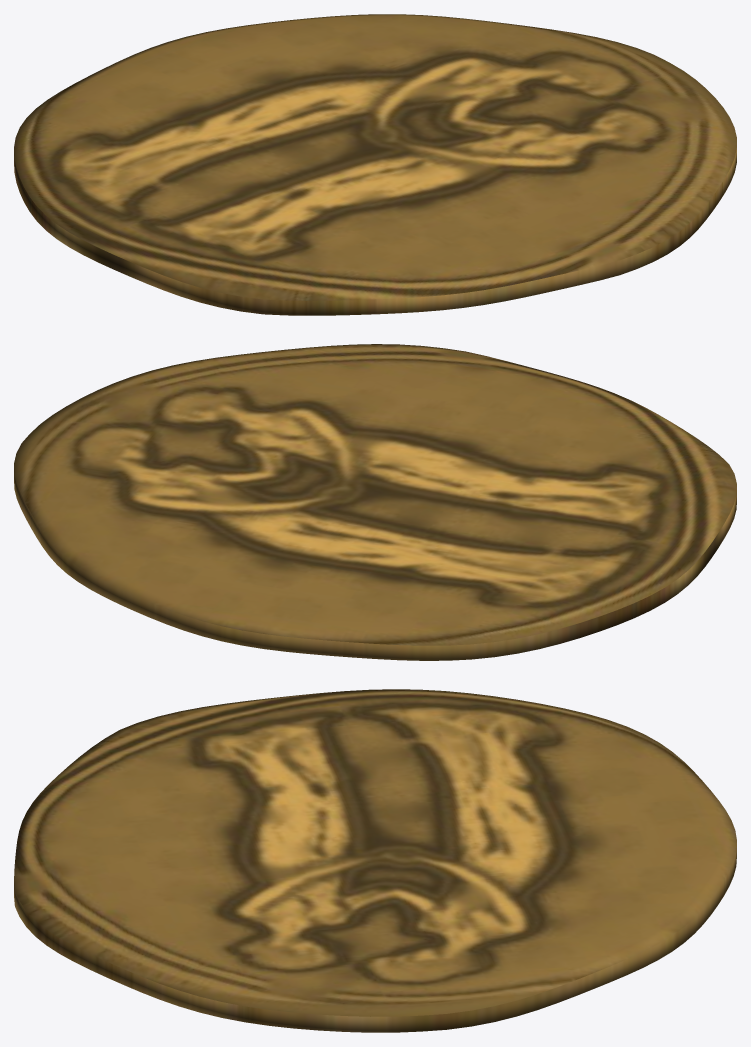
Rendered from zodiac_03.glb.
3 renders of one model, top to bottom at view 1: azimuth 30°, elevation 25°; view 2: azimuth 150°, elevation 25°; view 3: azimuth 270°, elevation 25°, orthographic. The views are drawn at different scales.
Parts seen in each view (by area): view 1: zodiac_03; view 2: zodiac_03; view 3: zodiac_03.
Boxes of the visible parts, left/top/right/bottom form: zodiac_03: left=14, top=14, right=736, bottom=315; zodiac_03: left=14, top=344, right=736, bottom=660; zodiac_03: left=14, top=689, right=736, bottom=1032.
Bounding box in the file's own units: 0.983 × 0.0405 × 0.9168.
Materials: 1 (1 with a texture image).
